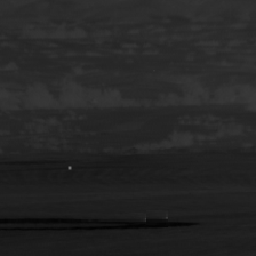Target: (67, 165, 73, 171)
